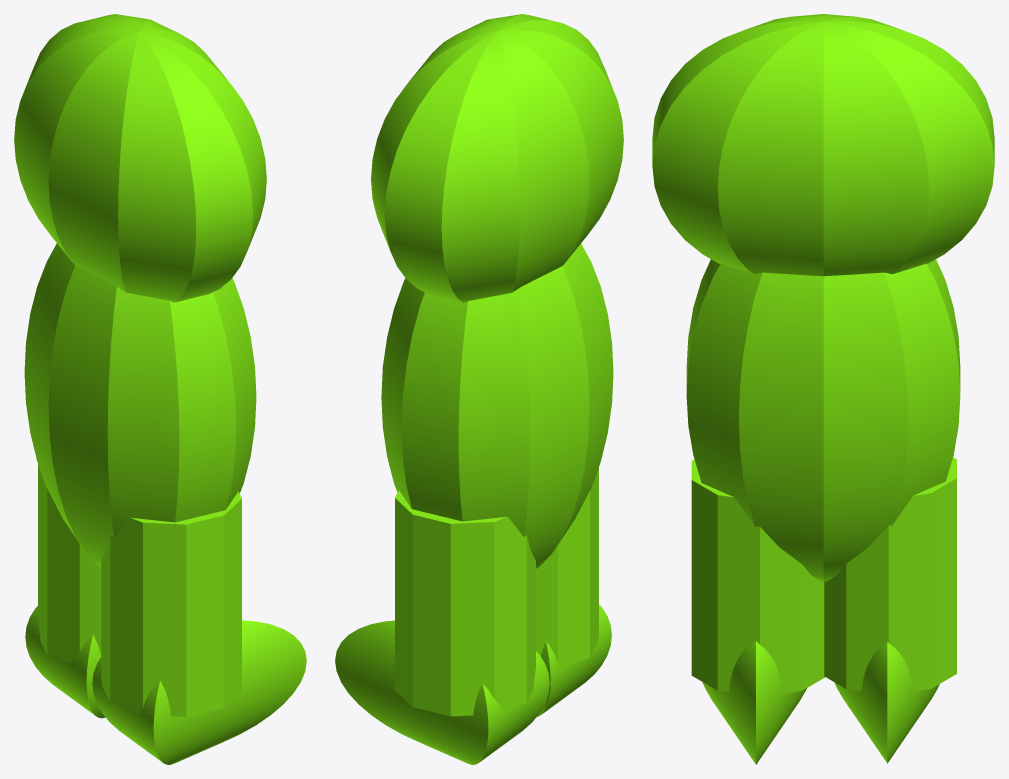
Rendered from player.obj.
The picture shows the model from 3 angles, left to right: view 1: azimuth 30°, elevation 25°; view 2: azimuth 150°, elevation 25°; view 3: azimuth 270°, elevation 25°; orthographic projection.
Parts seen in each view (by area): view 1: group1 pSphere1, pSphere2 group1, group1 pCylinder2, group1 pSphere3, group1 pCylinder1, group1 pSphere4; view 2: group1 pSphere1, pSphere2 group1, group1 pCylinder1, group1 pSphere4, group1 pCylinder2, group1 pSphere3; view 3: group1 pSphere1, pSphere2 group1, group1 pCylinder1, group1 pCylinder2, group1 pSphere3, group1 pSphere4.
Part boxes in pixels (x1,y1,x2,y2): group1 pSphere1: (14,14,266,302); pSphere2 group1: (24,243,256,567); group1 pCylinder2: (101,491,241,716); group1 pSphere3: (92,620,306,764); group1 pCylinder1: (38,464,101,663); group1 pSphere4: (25,606,105,718); group1 pSphere1: (371,14,623,302); pSphere2 group1: (381,243,613,568); group1 pCylinder1: (395,490,535,716); group1 pSphere4: (335,620,549,764); group1 pCylinder2: (536,467,598,668); group1 pSphere3: (537,604,611,716); group1 pSphere1: (652,14,994,276); pSphere2 group1: (686,259,960,581); group1 pCylinder1: (824,457,956,691); group1 pCylinder2: (691,459,825,693); group1 pSphere3: (702,641,806,764); group1 pSphere4: (834,642,939,763).
Bounding box in the file's own units: 0.7348 × 2.19 × 0.9511.
1 material, 1 textured.
